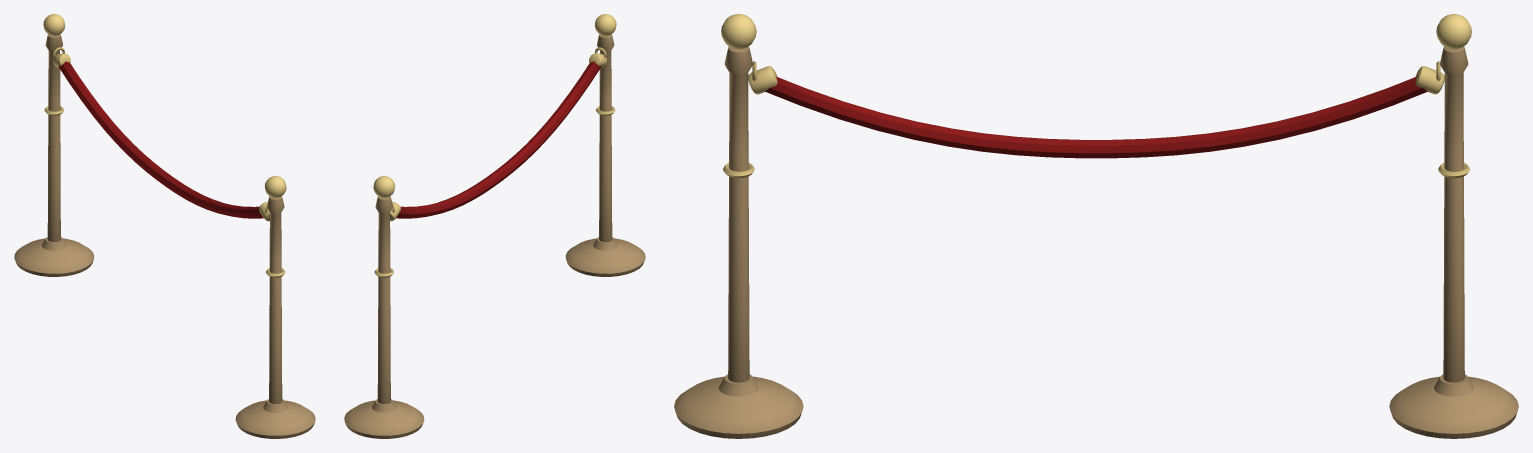
The model's file is obj_kit_stanchions.glb.
3 views of the same model, side by side, from view 1: azimuth 30°, elevation 25°; view 2: azimuth 150°, elevation 25°; view 3: azimuth 270°, elevation 25° (orthographic). The views are drawn at different scales.
Parts seen in each view (by area): view 1: rope, post, post.001, base.001, base, Sphere.001, Sphere; view 2: rope, post.001, post, base, base.001, Sphere, Sphere.001; view 3: rope, post, post.001, base, base.001, Sphere, Sphere.001.
Part boxes in pixels (x1,y1,x2,y2): rope: [58, 61, 263, 218]; post: [267, 196, 284, 403]; post.001: [45, 34, 62, 241]; base.001: [14, 237, 94, 276]; base: [235, 399, 315, 438]; Sphere.001: [43, 14, 65, 35]; Sphere: [264, 176, 286, 197]; rope: [396, 61, 601, 218]; post.001: [375, 196, 392, 403]; post: [597, 34, 614, 241]; base: [565, 237, 645, 276]; base.001: [344, 399, 424, 438]; Sphere: [594, 14, 616, 35]; Sphere.001: [373, 176, 395, 197]; rope: [765, 76, 1427, 158]; post: [724, 46, 752, 382]; post.001: [1440, 46, 1468, 382]; base: [674, 374, 803, 438]; base.001: [1389, 374, 1518, 438]; Sphere: [721, 14, 756, 49]; Sphere.001: [1436, 14, 1471, 49].
Size of the model in its own units: 0.29 by 0.98 by 1.89.
